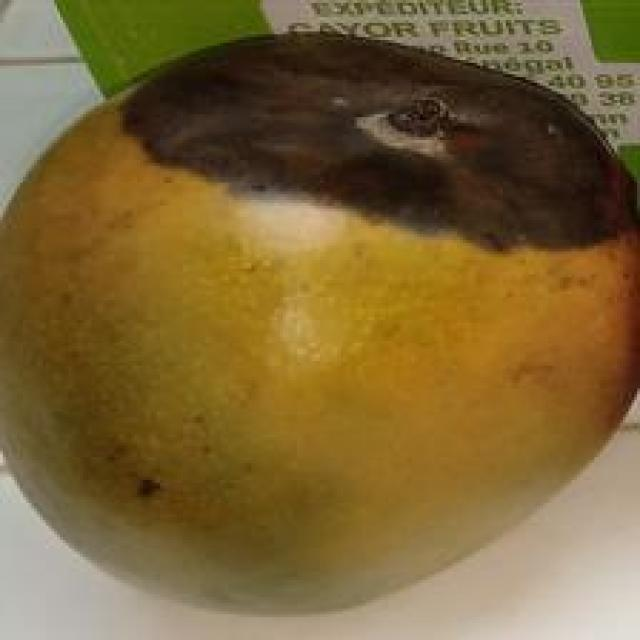Bad_Mango: (0, 34, 640, 611)
